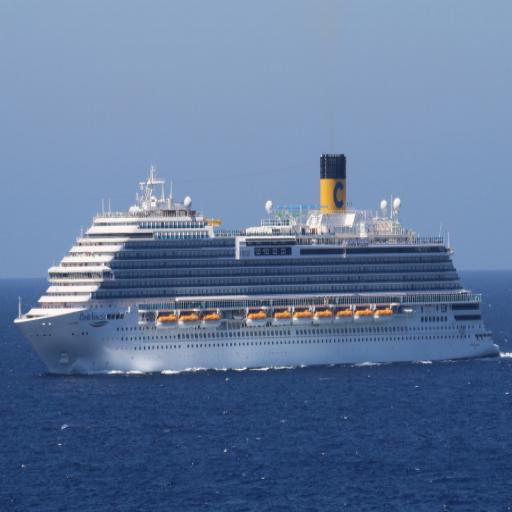cruises: (12, 152, 504, 388)
